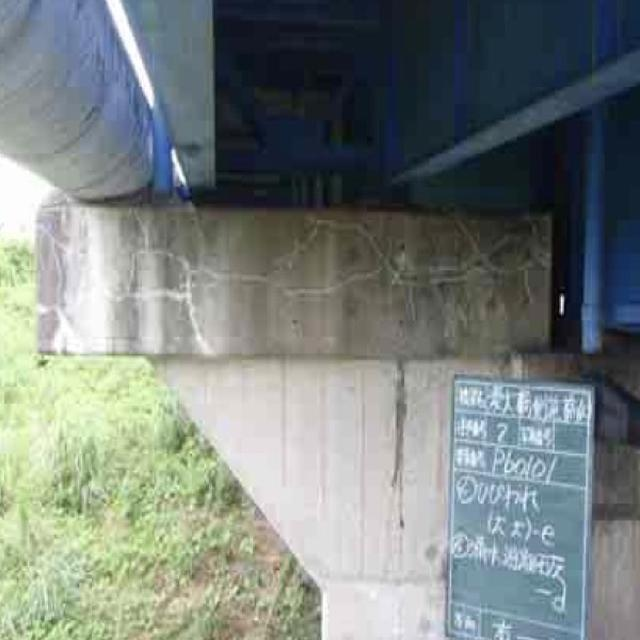crack: (43, 208, 550, 358)
